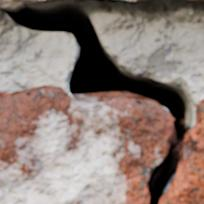brick: (0, 0, 44, 6)
broken_brick: (0, 84, 171, 203), (160, 97, 203, 203)
crack: (0, 0, 201, 203)
